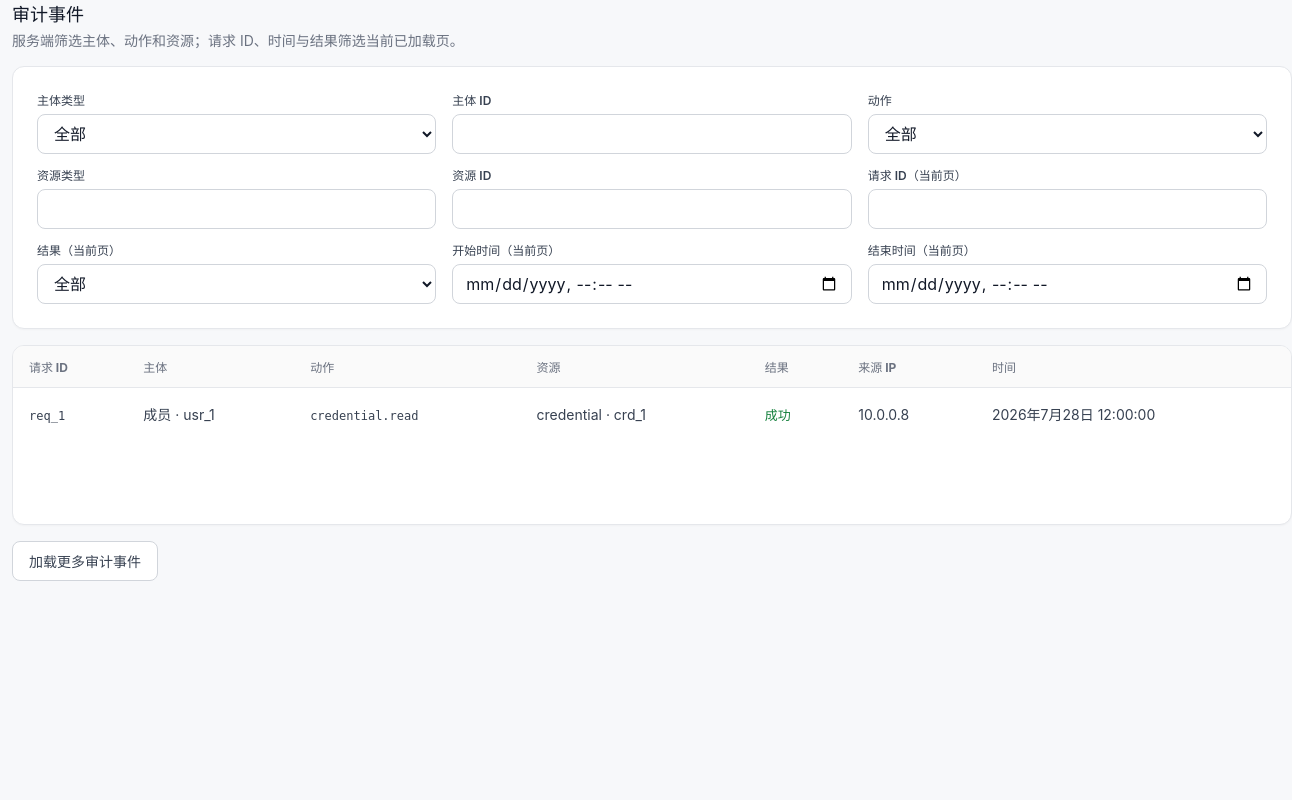
audit page › uses hardened cursor flow and ignores a stale continuation after filters change
This screenshot has width=1292, height=800.
Click the button "加载更多审计事件": (85, 561) [12,541,158,581]
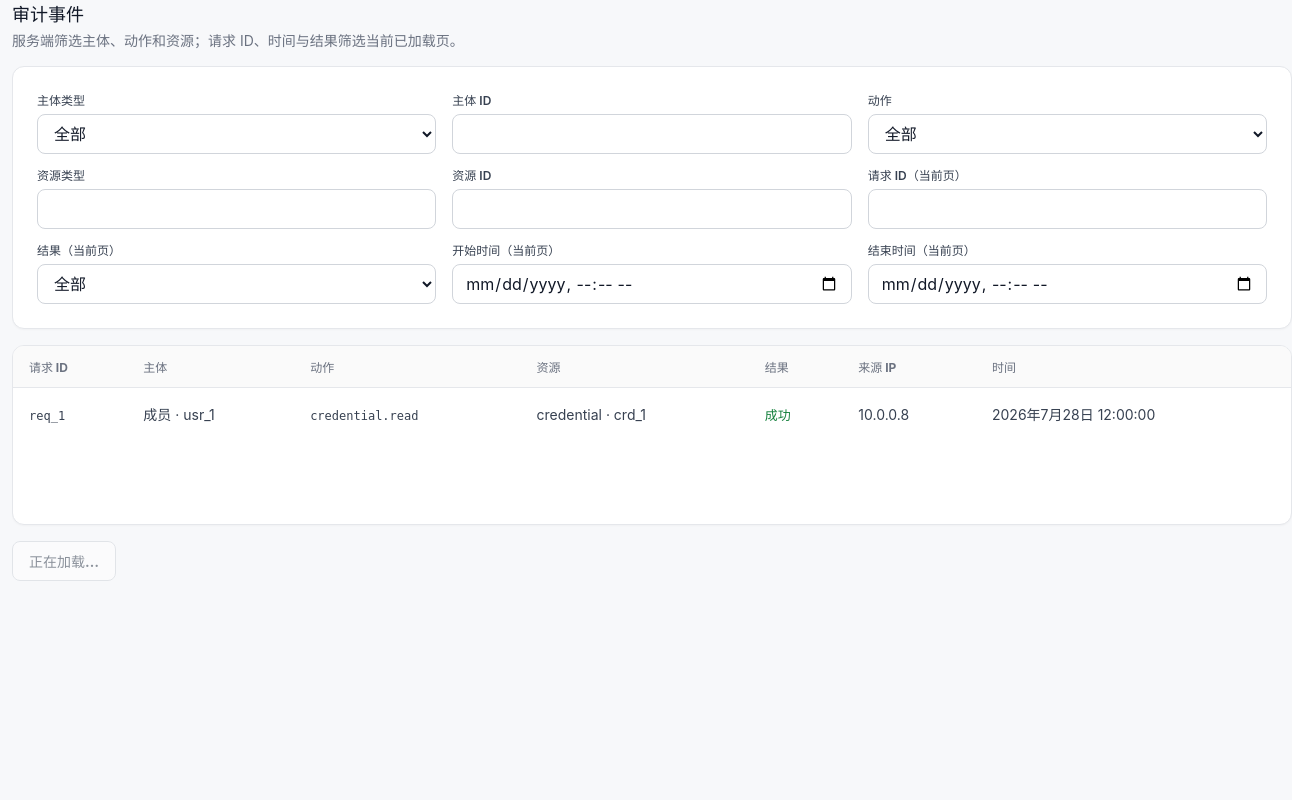
Select "credential.read" in the dropdown labelled "动作": (1067, 134) [868,114,1267,154]
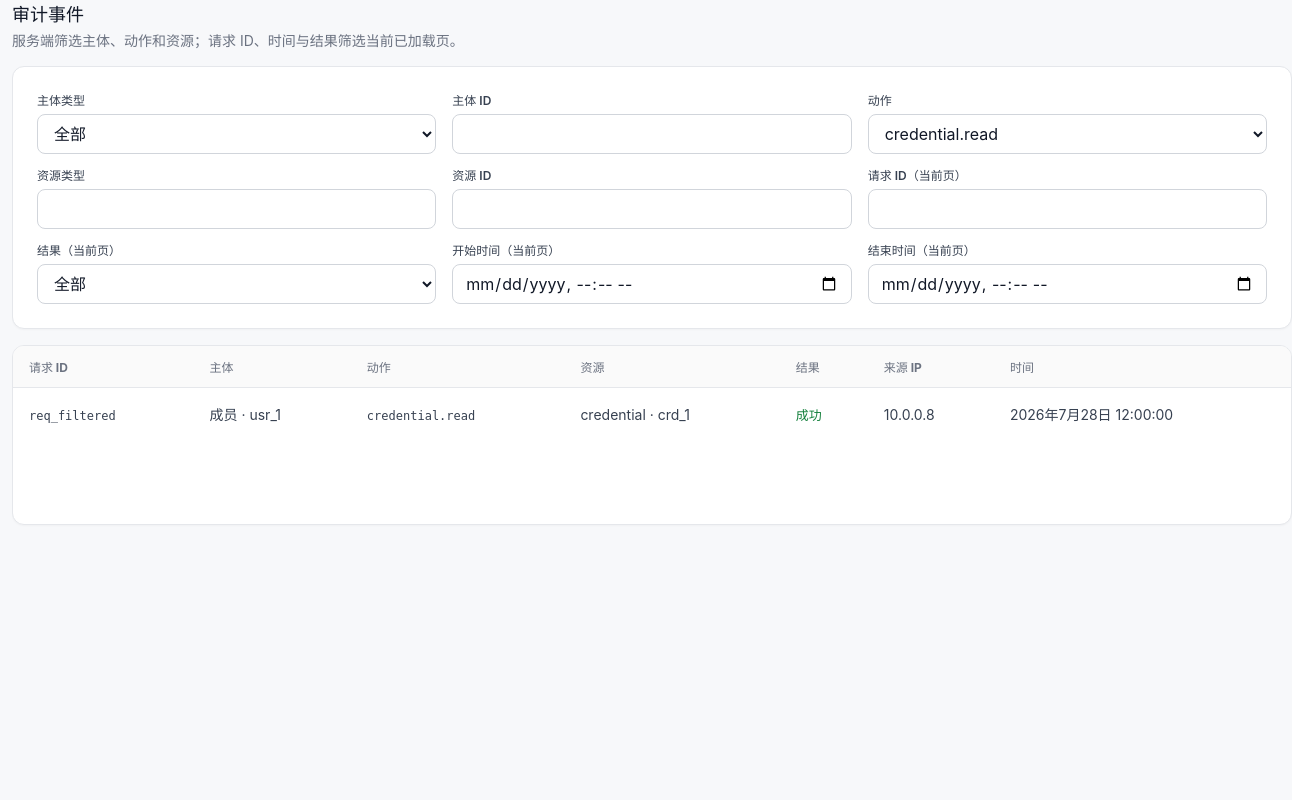
Check: the text "req_filtered" is shown, box [29,409,116,423]
